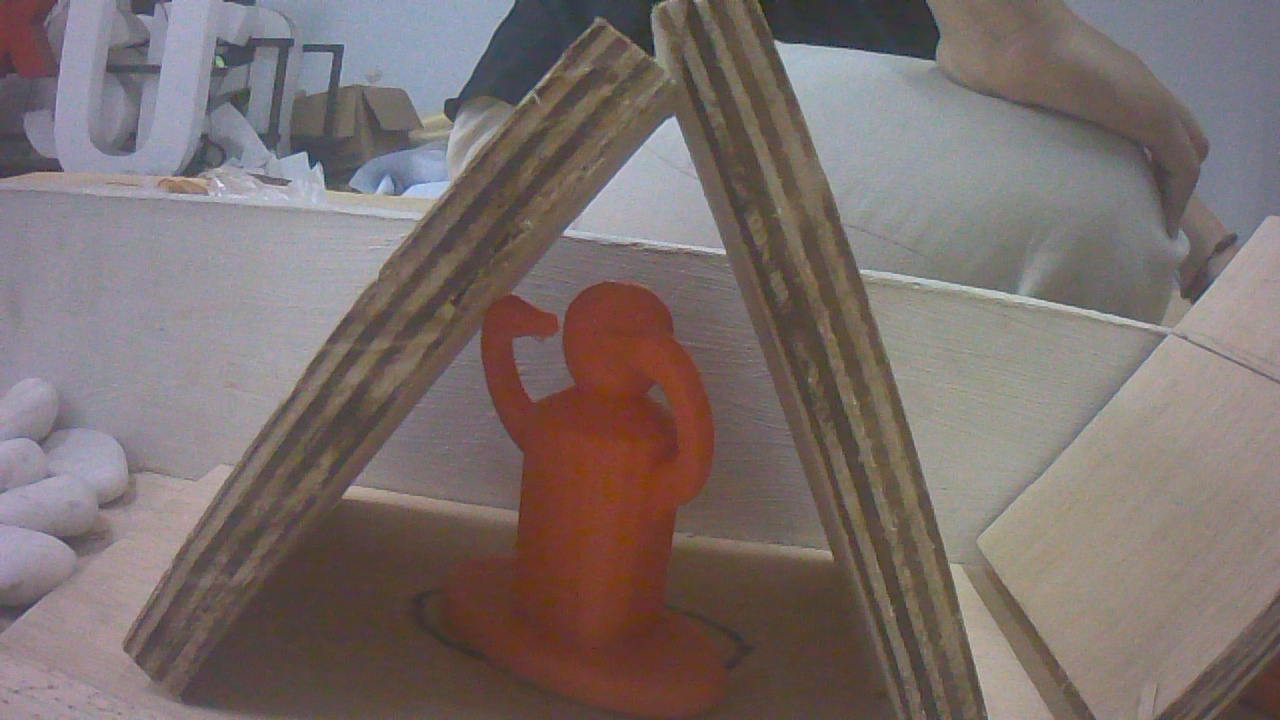real: (442, 240, 741, 706)
